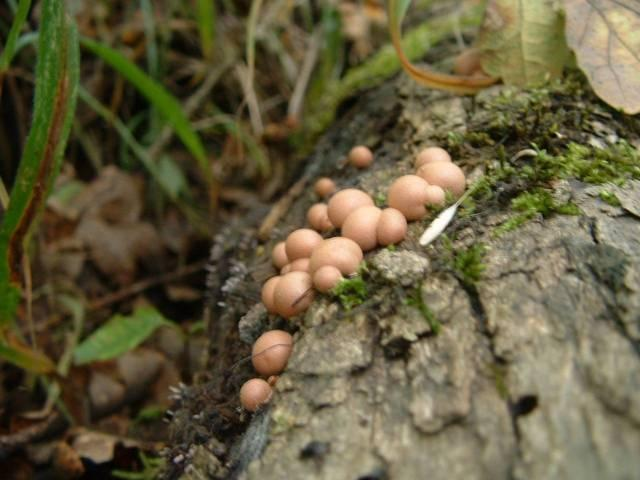poisonous_mushroom: (235, 143, 467, 412), (250, 328, 293, 375), (238, 377, 273, 412), (347, 144, 373, 168)
